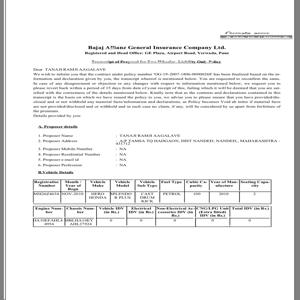table: (32, 179, 272, 203), (33, 206, 273, 226)
text: (32, 66, 283, 120), (36, 123, 281, 169), (82, 43, 230, 57), (88, 57, 226, 66)
